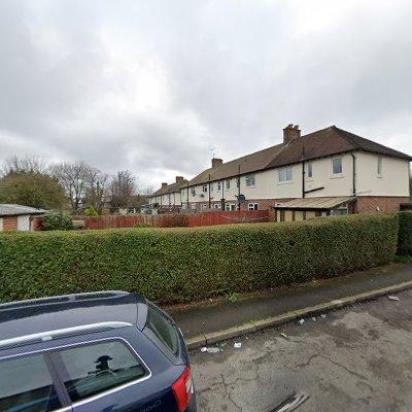stationary-car-onstreet: (0, 292, 194, 410)
